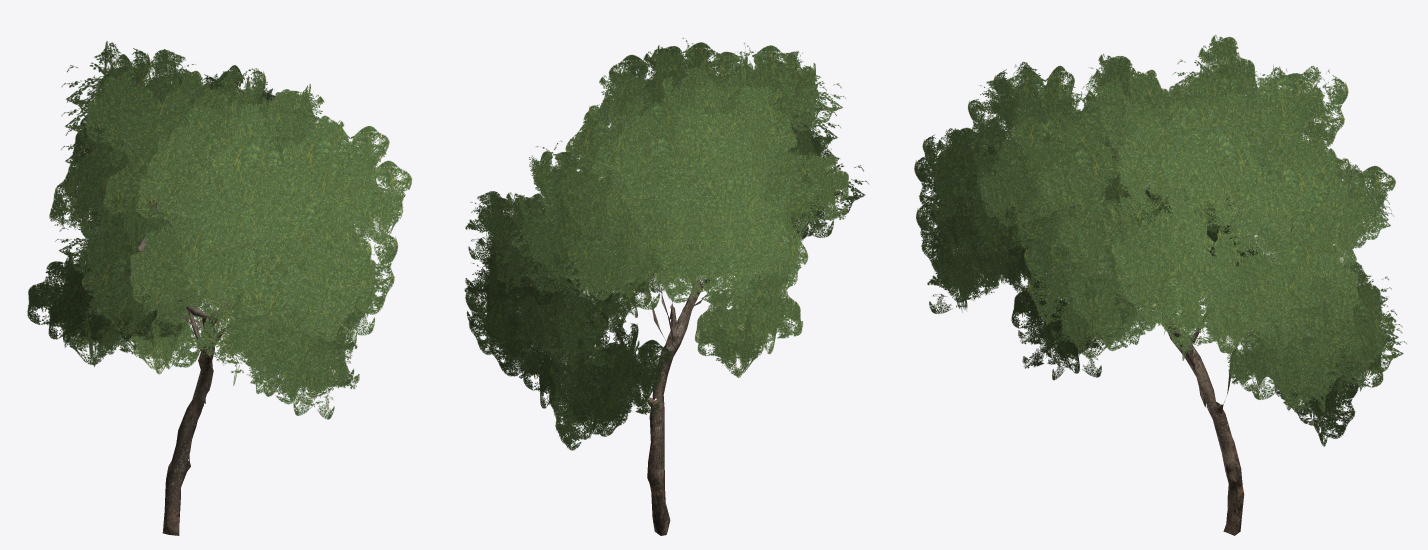
File: tree_small_02.glb
The picture shows the model from 3 angles, left to right: view 1: azimuth 30°, elevation 25°; view 2: azimuth 150°, elevation 25°; view 3: azimuth 270°, elevation 25°; orthographic projection. The views are drawn at different scales.
Visible parts, largest first — view 1: leafcards, tree_small_02_LOD0; view 2: leafcards, tree_small_02_LOD0; view 3: leafcards, tree_small_02_LOD0.
Boxes of the visible parts, x1=… form: leafcards: x1=27, y1=41, x2=412, y2=419; tree_small_02_LOD0: x1=134, y1=200, x2=276, y2=535; leafcards: x1=464, y1=37, x2=868, y2=450; tree_small_02_LOD0: x1=611, y1=256, x2=734, y2=535; leafcards: x1=914, y1=35, x2=1406, y2=446; tree_small_02_LOD0: x1=1047, y1=205, x2=1259, y2=535.
Size of the model in its own units: 3.53 by 4.87 by 4.76.
3 materials, 3 textured.
